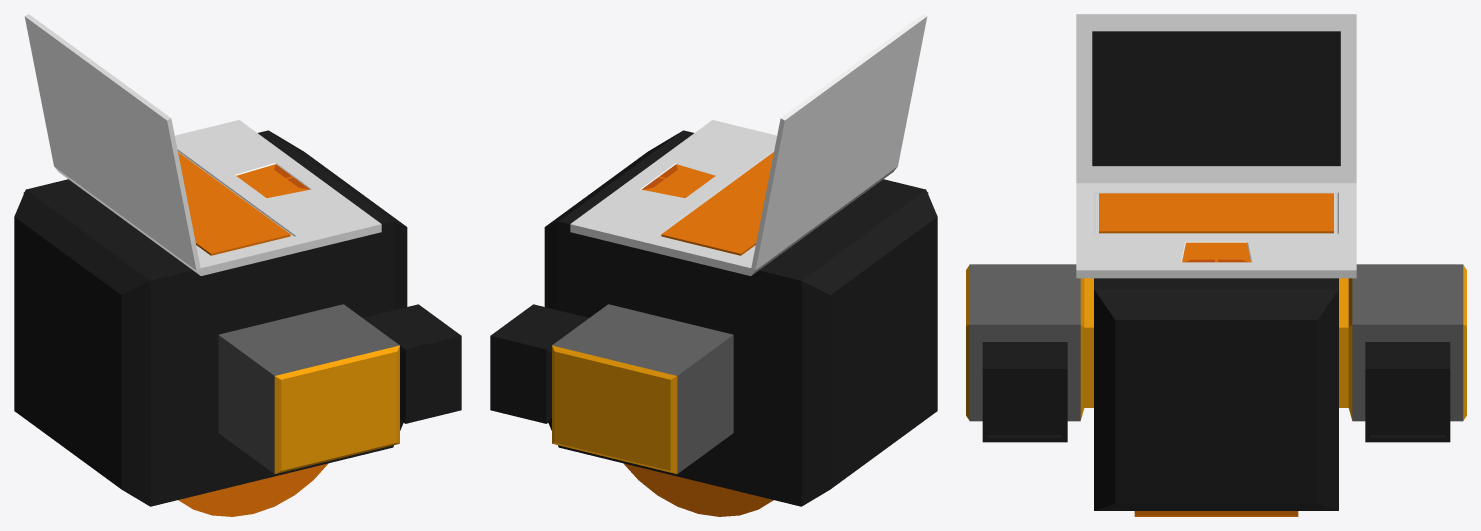
File: roller.glb
The picture shows the model from 3 angles, left to right: view 1: azimuth 30°, elevation 25°; view 2: azimuth 150°, elevation 25°; view 3: azimuth 270°, elevation 25°; orthographic projection.
Parts seen in each view (by area): view 1: Roller; view 2: Roller; view 3: Roller.
Part boxes in pixels (x1,y1,x2,y2): Roller: [14, 14, 461, 516]; Roller: [490, 14, 937, 516]; Roller: [966, 14, 1466, 516].
Bounding box in the file's own units: 1.6 × 2.36 × 2.45.
Materials: 2 (2 with a texture image).
